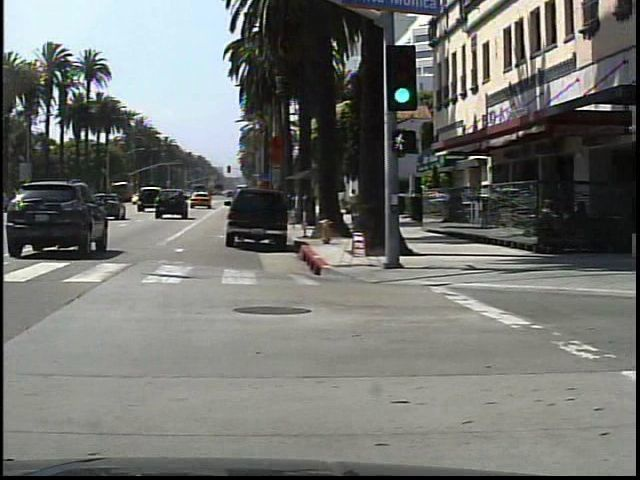person: (349, 184, 361, 226)
